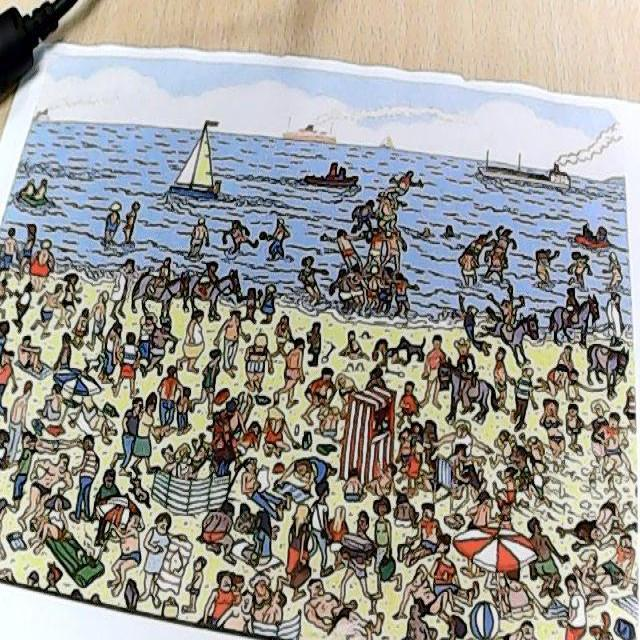waldo: (219, 407, 232, 437)
